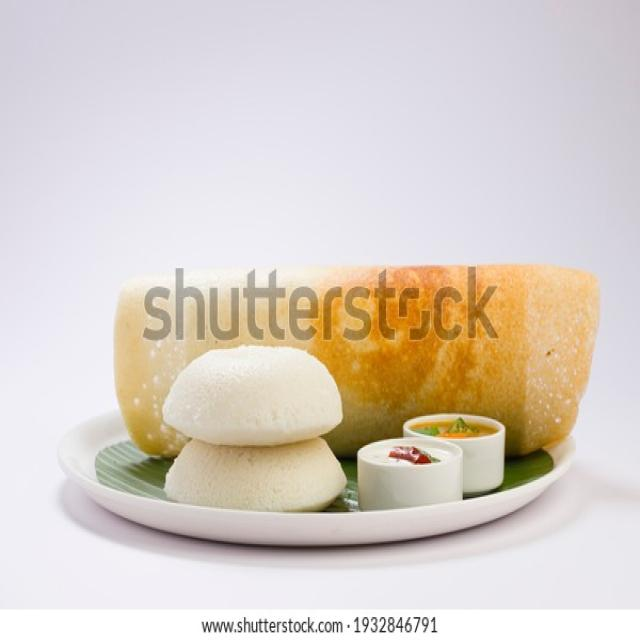DOSA: (114, 265, 598, 457)
IDLI: (162, 347, 342, 445), (165, 439, 345, 510)
